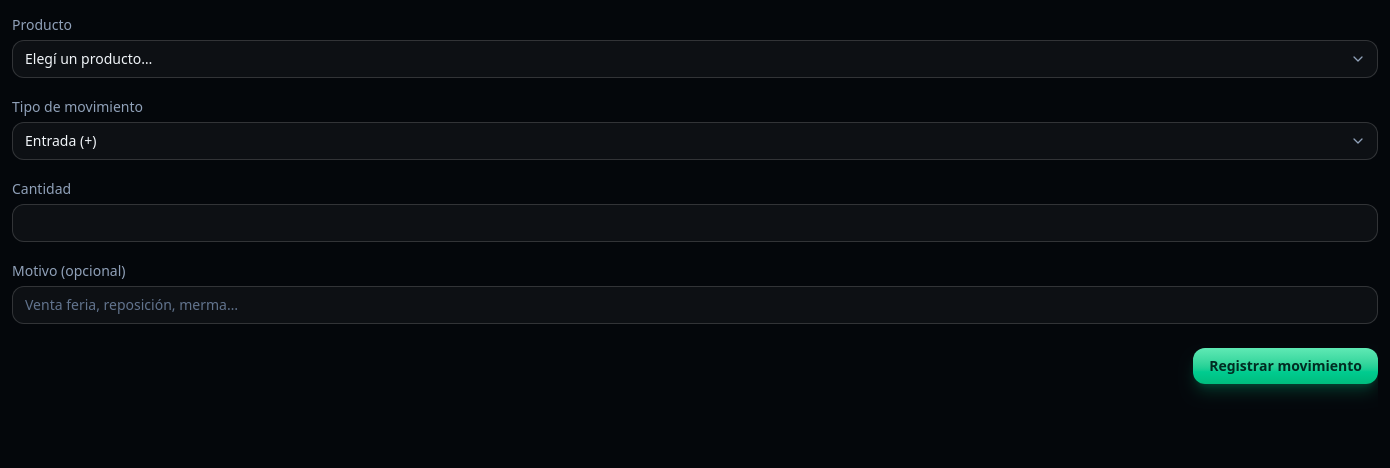
Test: MovementForm › muestra en el banner los errores sin campo (reglas de negocio)
Select "LMP-001 · Lámpara Aurora (stock 10)" in the dropdown labelled "Producto" at (695, 59), box x1=12 y1=40 x2=1378 y2=78
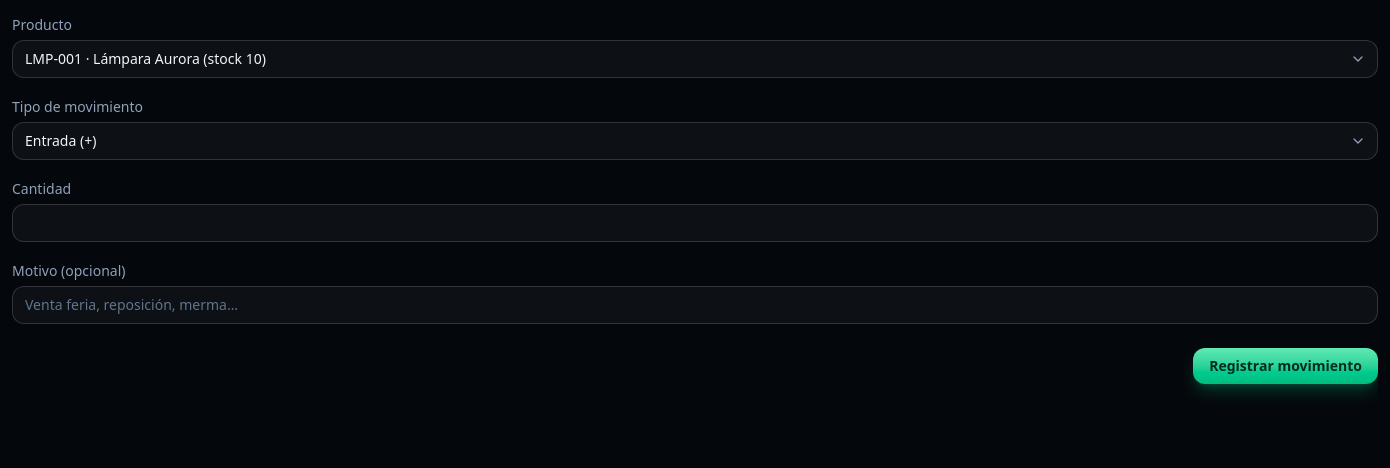
Type "99" into the number field labelled "Cantidad".
click(695, 223); type("99")  # box x1=12 y1=204 x2=1378 y2=242
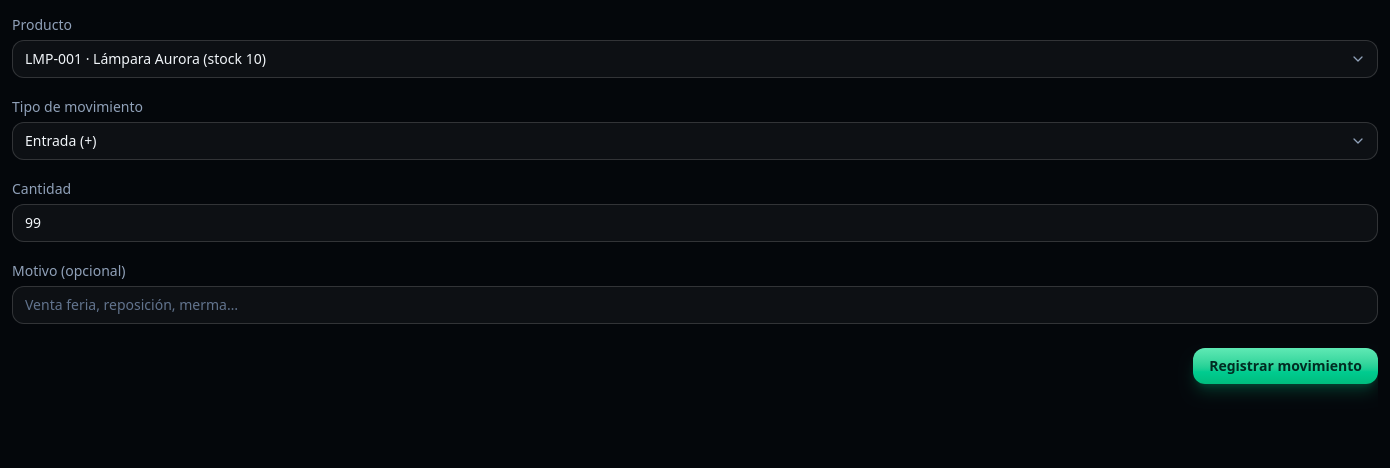
Click the button "Registrar movimiento".
click(1286, 366)  # box x1=1193 y1=348 x2=1378 y2=384
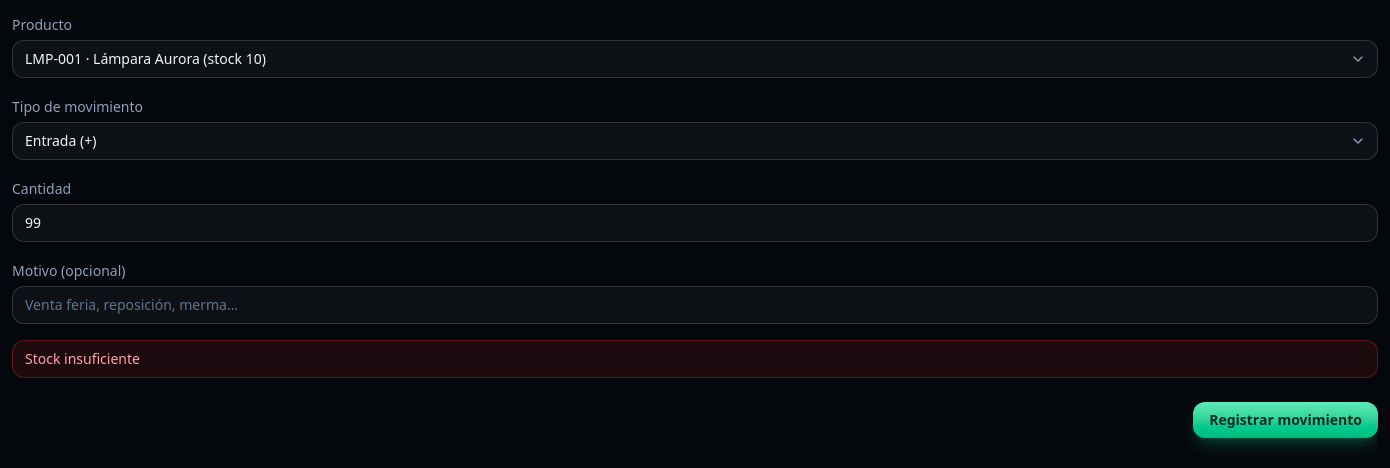
Now the message reads "Stock insuficiente", box x1=25 y1=349 x2=140 y2=368
